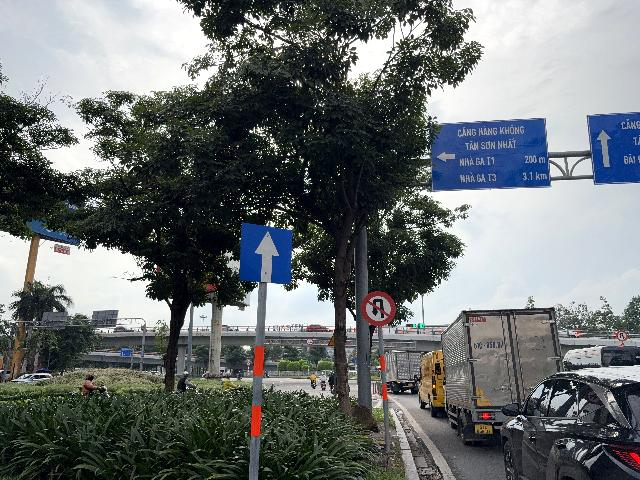cam-quay-dau-xe: (361, 291, 396, 327)
duong-mot-chieu: (239, 223, 293, 284)
